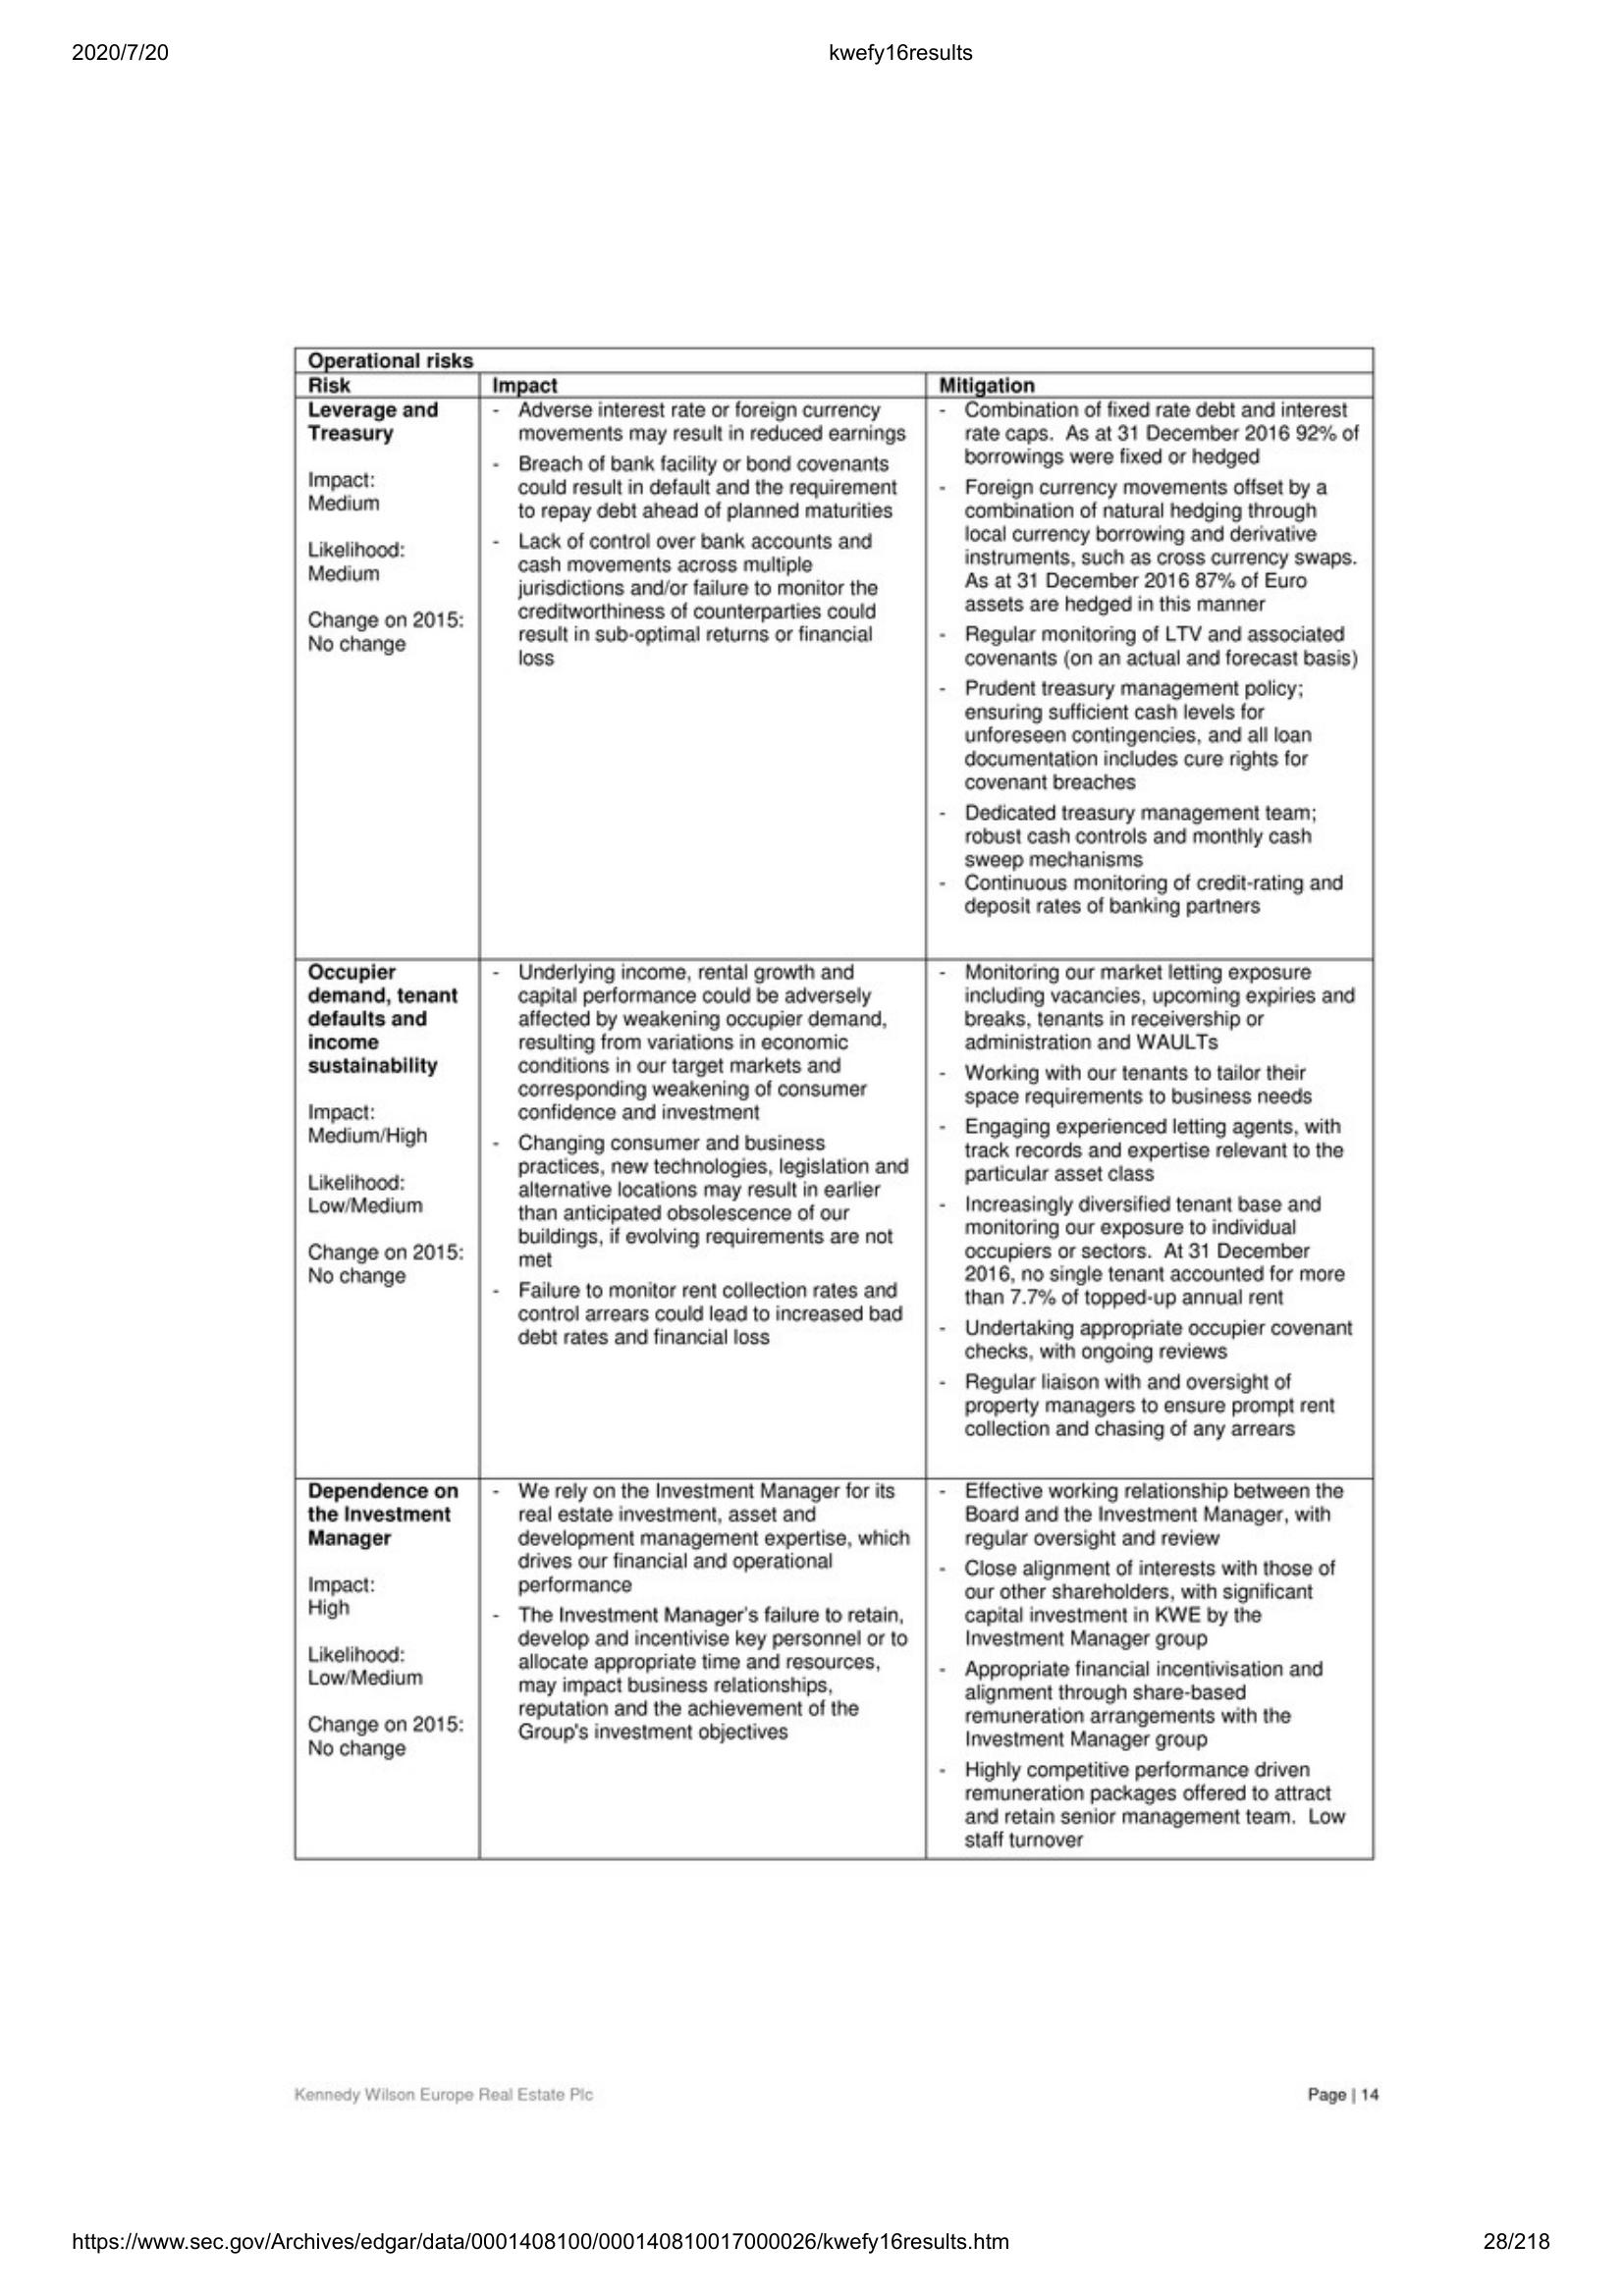table: (286, 339, 1384, 1868)
